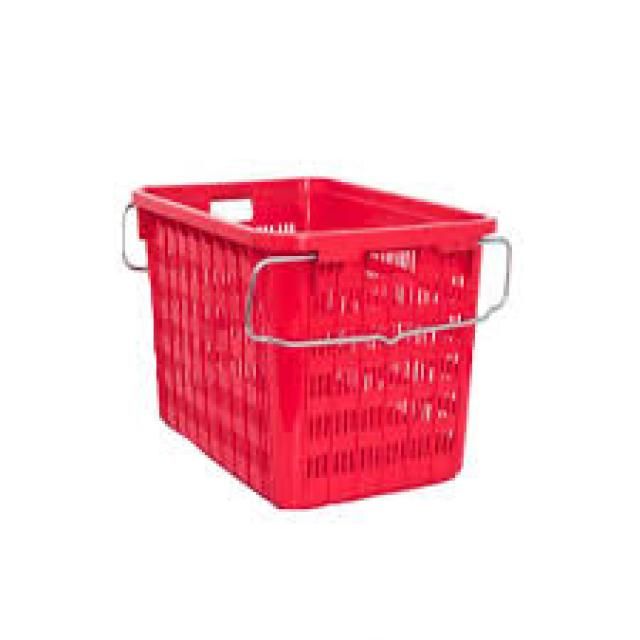basket: (138, 174, 507, 514)
